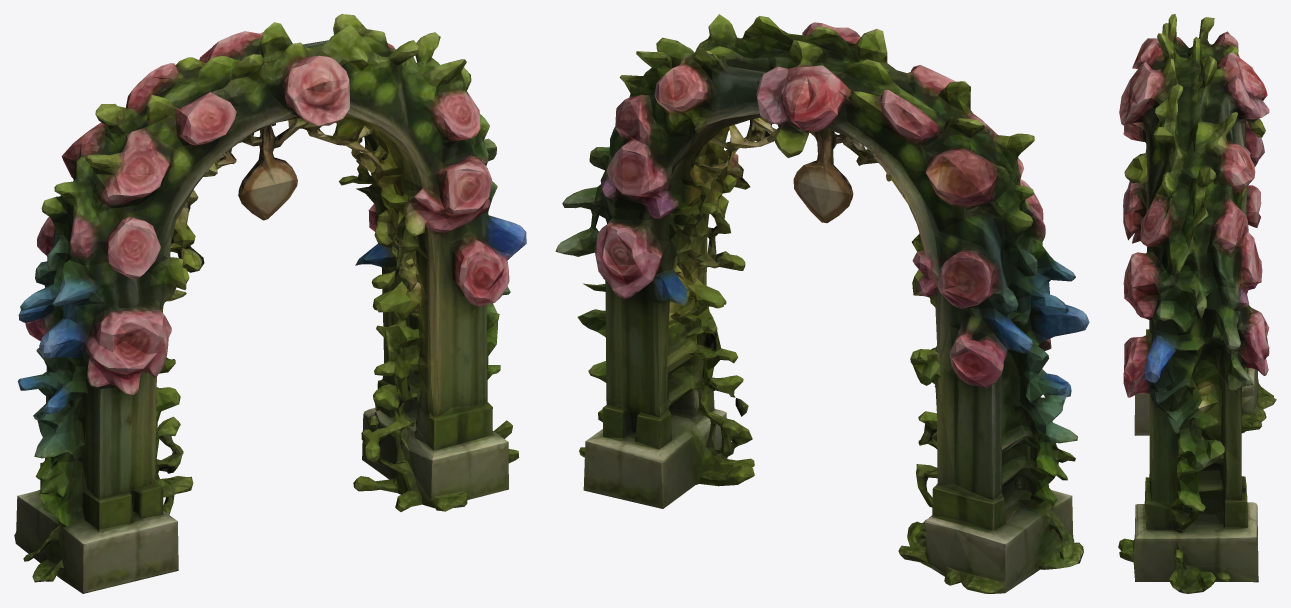
The picture shows the model from 3 angles, left to right: view 1: azimuth 30°, elevation 25°; view 2: azimuth 150°, elevation 25°; view 3: azimuth 270°, elevation 25°; orthographic projection. The views are drawn at different scales.
Parts seen in each view (by area): view 1: world; view 2: world; view 3: world.
Boxes of the visible parts, x1,y1,x2,y2 form: world: [14, 14, 526, 593]; world: [555, 14, 1089, 593]; world: [1118, 14, 1276, 593].
Bounding box in the file's own units: 0.9998 × 0.96 × 0.3104.
Materials: 1 (1 with a texture image).
